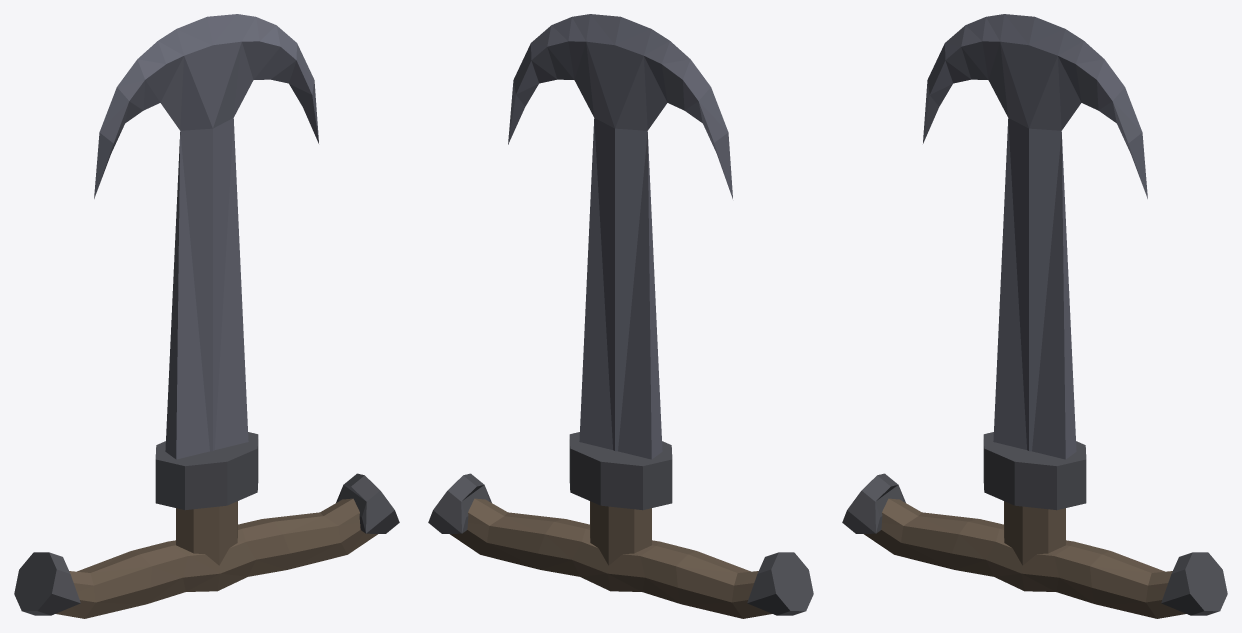
The model's file is dagger_dagger_12.glb.
3 renders of one model, left to right at view 1: azimuth 30°, elevation 25°; view 2: azimuth 150°, elevation 25°; view 3: azimuth 330°, elevation 25°, orthographic.
Parts seen in each view (by area): view 1: dagger_12; view 2: dagger_12; view 3: dagger_12.
Part boxes in pixels (x1=…): dagger_12: x1=14, y1=14, x2=399, y2=618; dagger_12: x1=428, y1=14, x2=813, y2=618; dagger_12: x1=842, y1=14, x2=1227, y2=618.
Size of the model in its own units: 19.79 by 29.17 by 3.76.
1 material, 1 textured.
